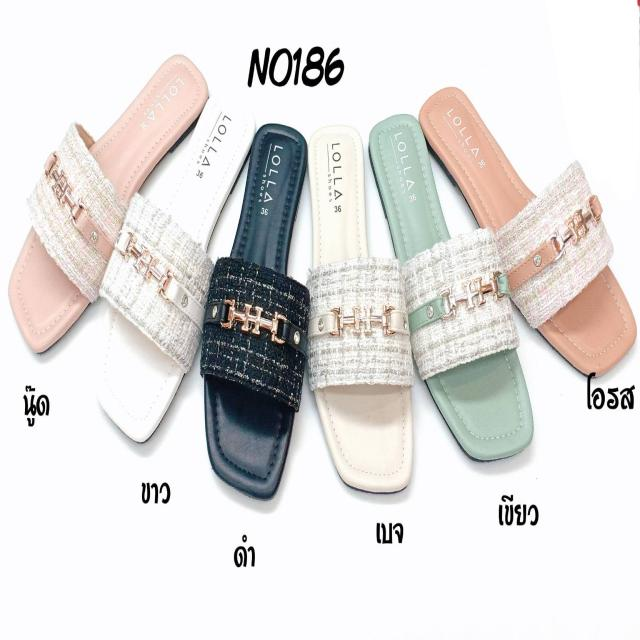bej: (310, 124, 410, 488)
black: (207, 122, 303, 498)
green: (370, 115, 532, 463)
nood: (9, 47, 209, 351)
orot: (418, 86, 630, 375)
white: (96, 88, 254, 448)
